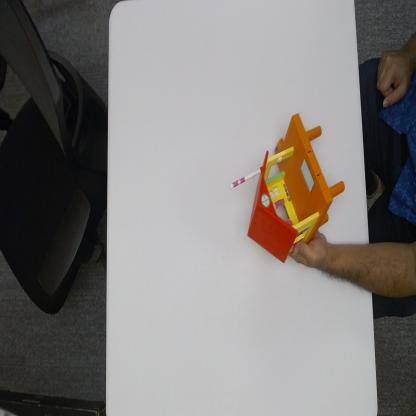Arm: (331, 240, 370, 296)
Hand: (289, 232, 329, 300)
House: (223, 113, 342, 255)
